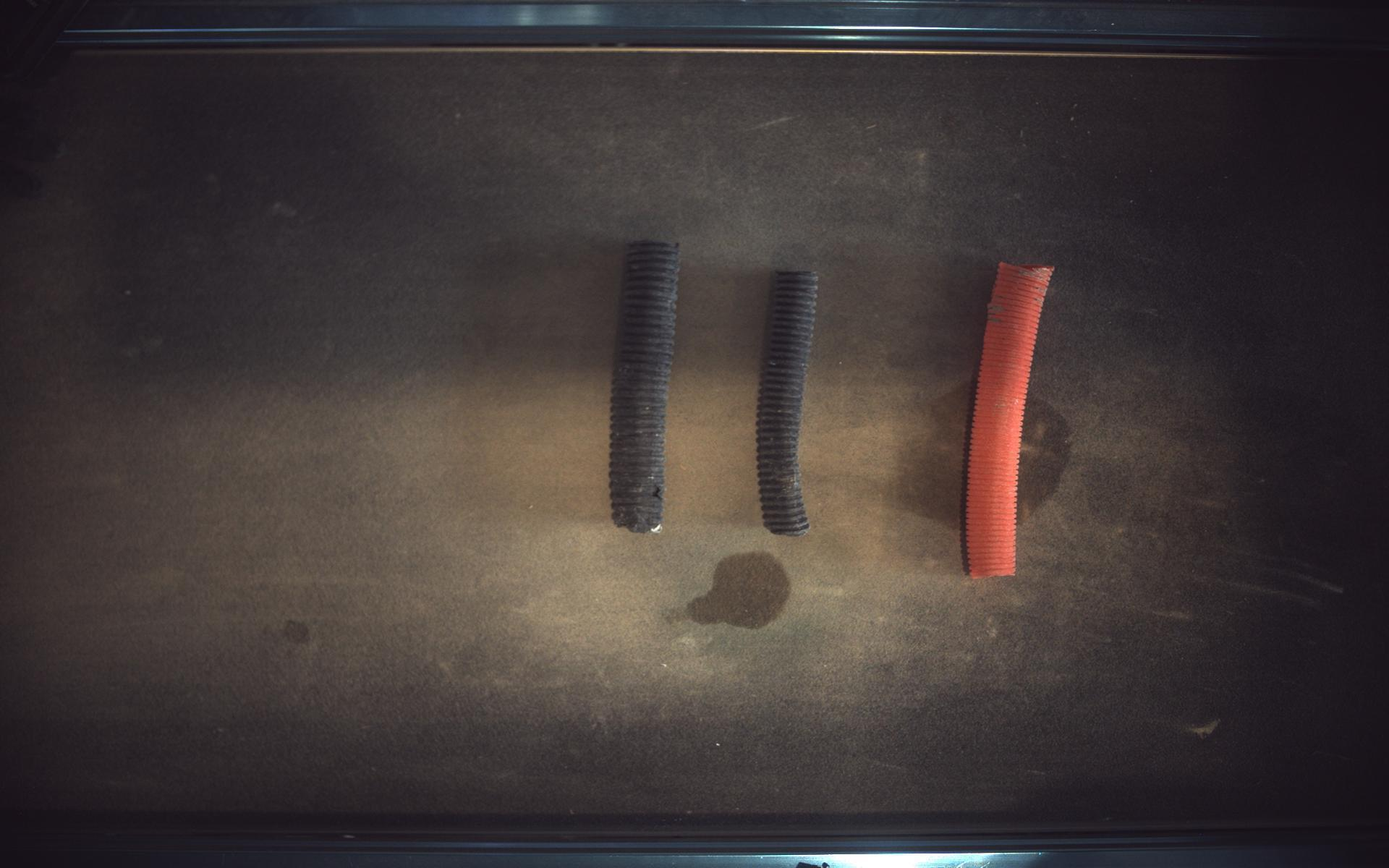pipes: (967, 262, 1056, 579), (610, 239, 680, 534), (758, 270, 820, 537)
